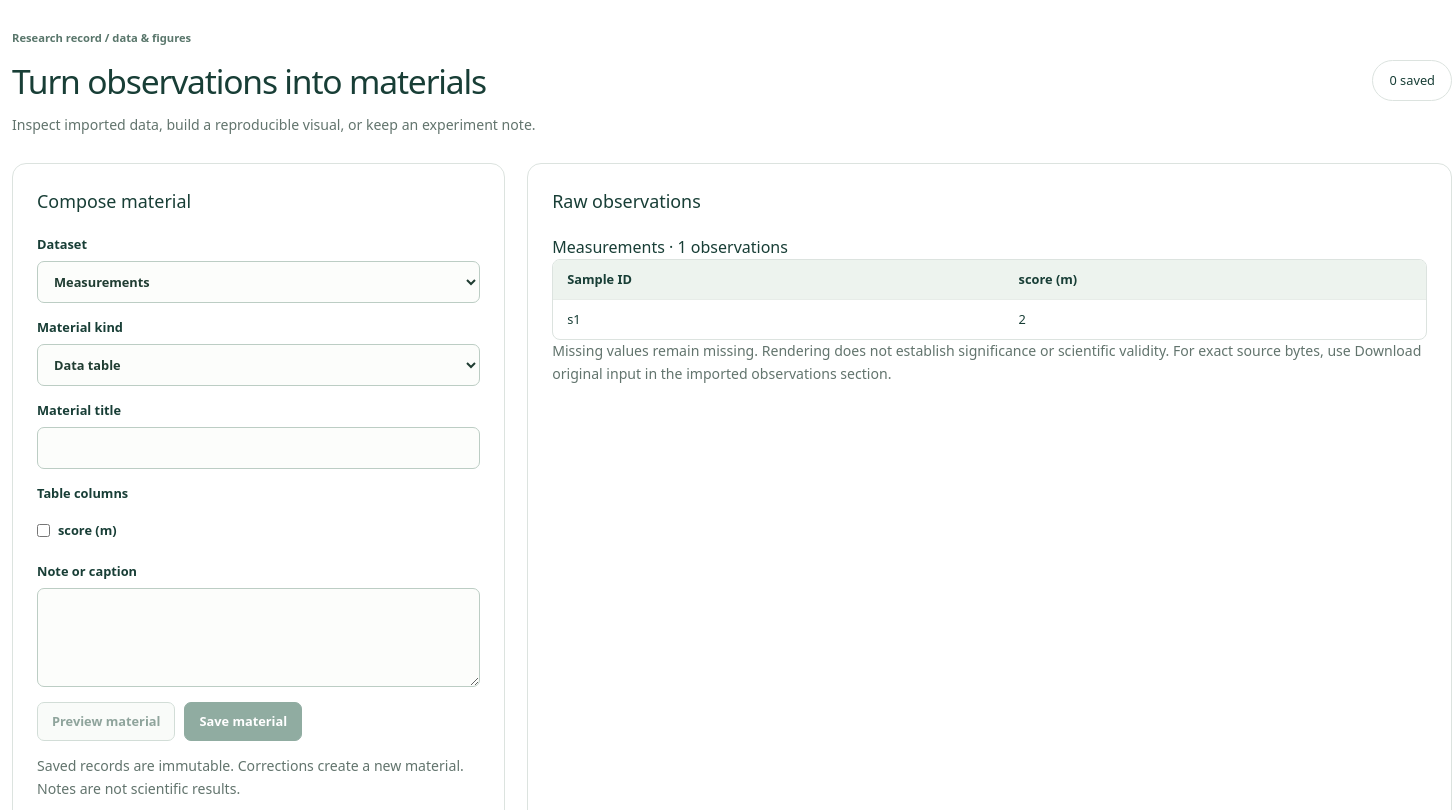
Test: unselected imported datasets prompt selection rather than another import
Select "Select a dataset" in the dropdown labelled "Dataset" at (259, 282), box [37,261,480,303]
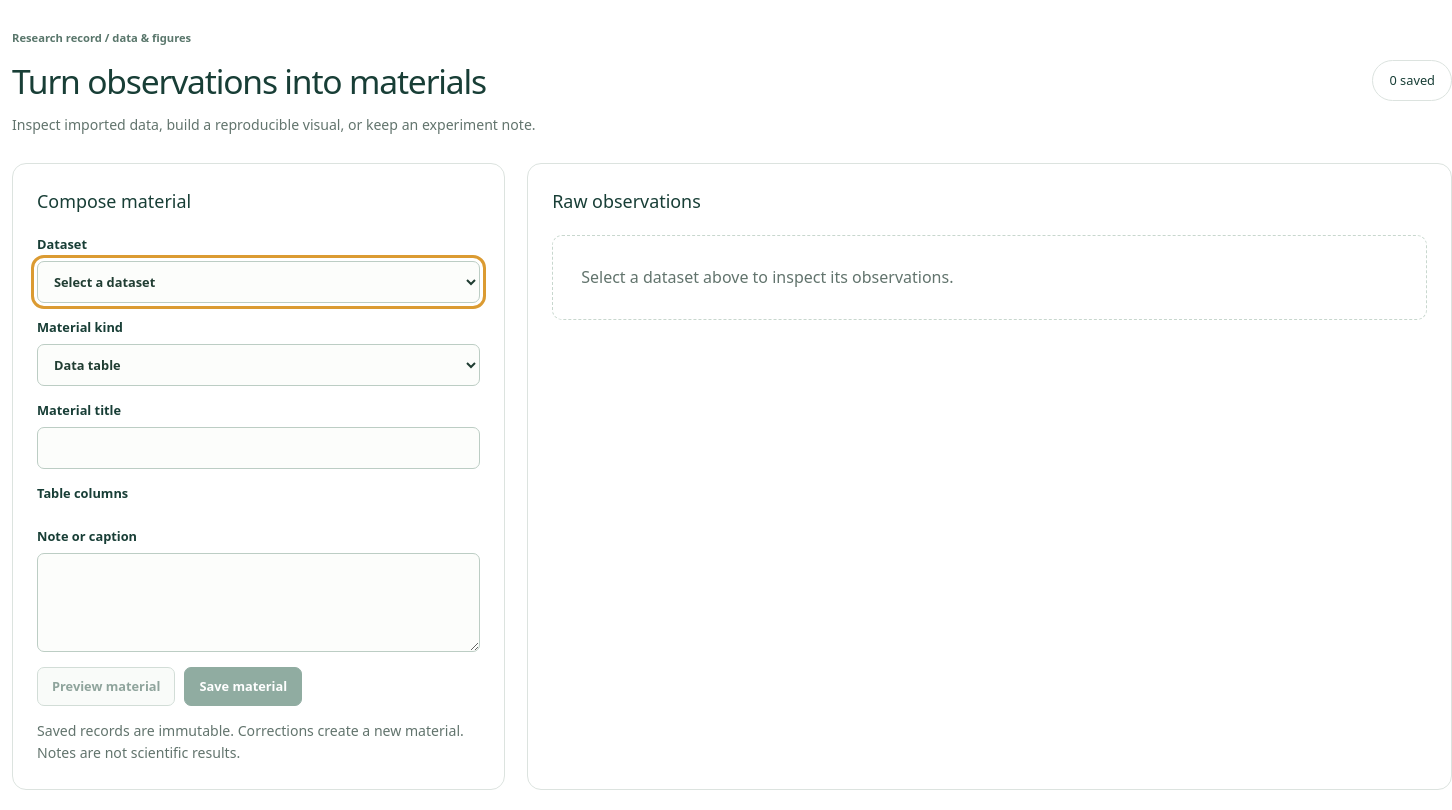
expect the text "Select a dataset above to inspect its observations." is shown: met, box [552,235,1427,320]
